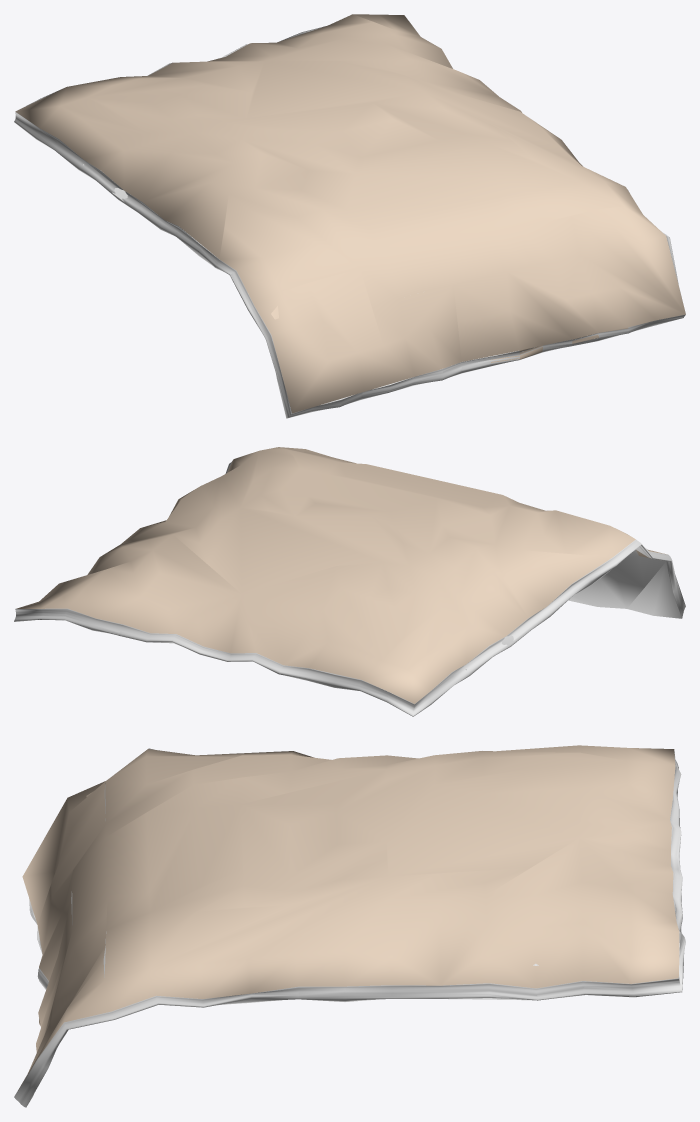
File: couverture.glb
The picture shows the model from 3 angles, top to bottom: view 1: azimuth 30°, elevation 25°; view 2: azimuth 150°, elevation 25°; view 3: azimuth 270°, elevation 25°; orthographic projection. The views are drawn at different scales.
Visible parts, largest first — view 1: Couverture; view 2: Couverture; view 3: Couverture.
Boxes of the visible parts, x1,y1,x2,y2 form: Couverture: (14,14,685,418); Couverture: (14,447,685,716); Couverture: (14,745,685,1107).
Size of the model in its own units: 16.92 by 6.26 by 20.25.
